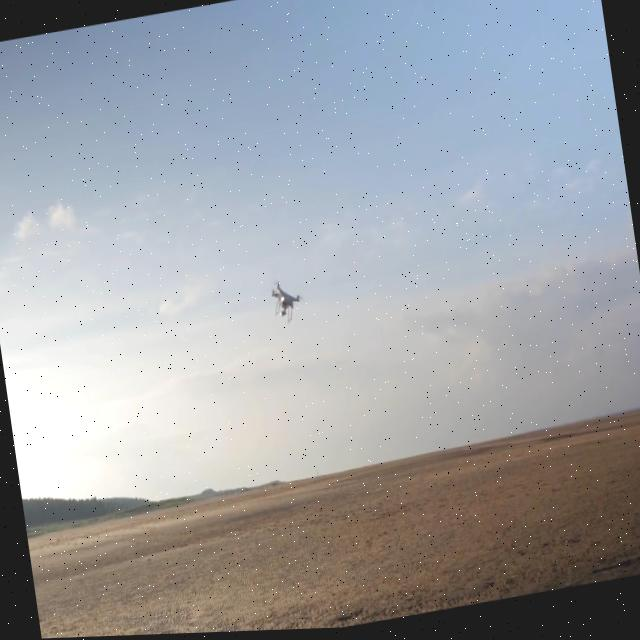drone: (266, 274, 305, 327)
